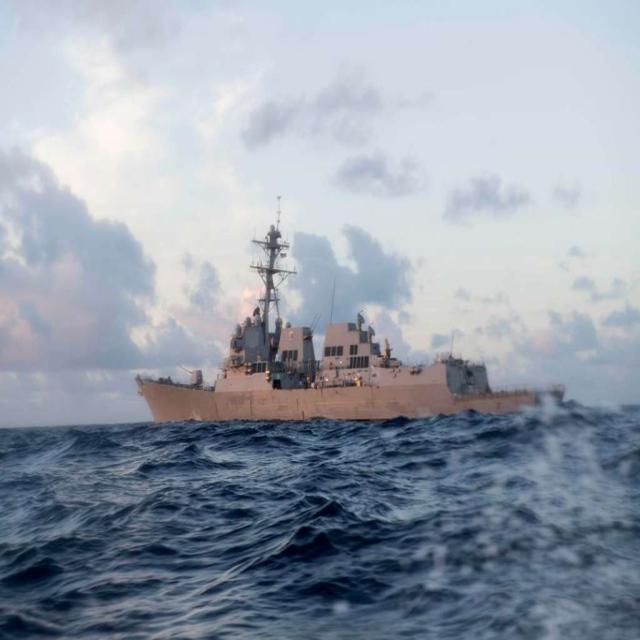navalvessels: (119, 190, 562, 431)
